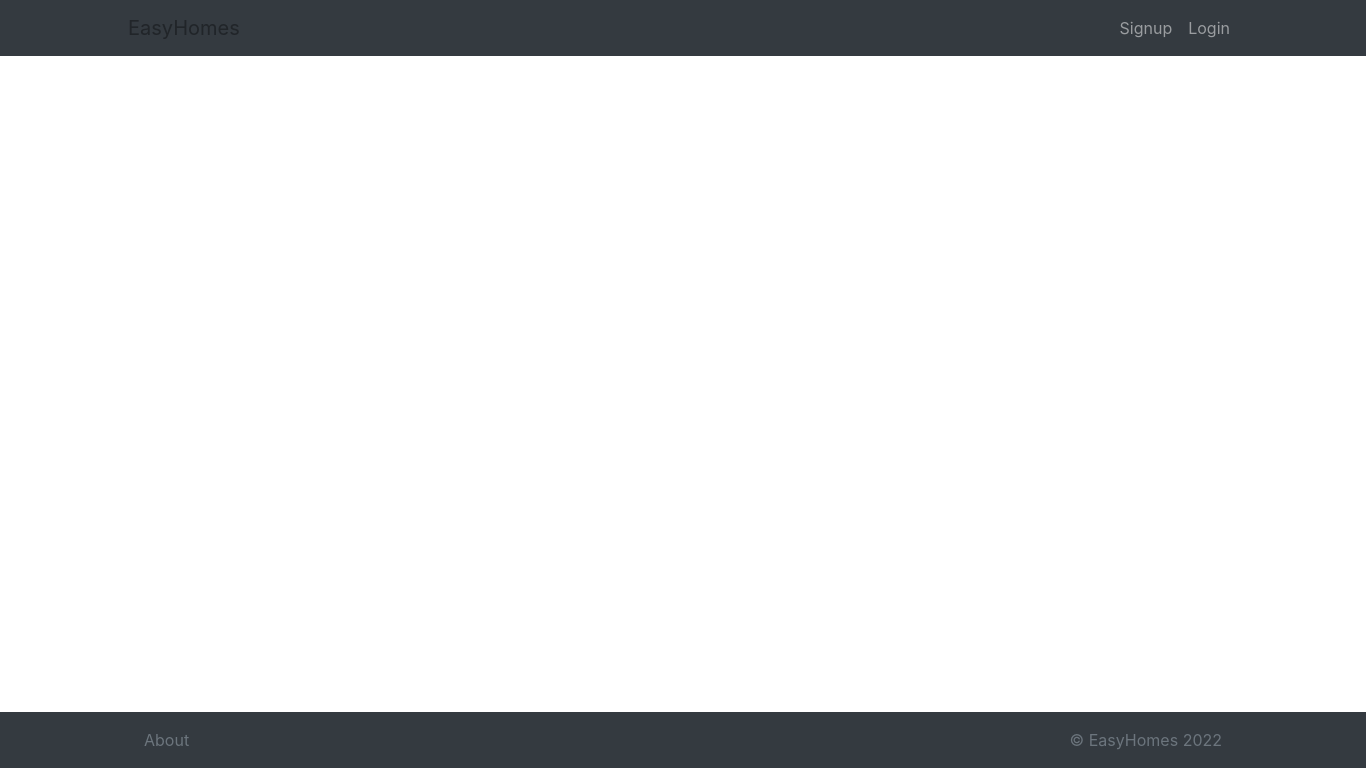
Navigation › should navigate to the login page
Find a link with an href attribute containing "login" and click it
What coordinates should you click on to do the following:
click the link "Login"
I would click on:
 (1209, 28)
Its box is x1=1188 y1=18 x2=1230 y2=38.
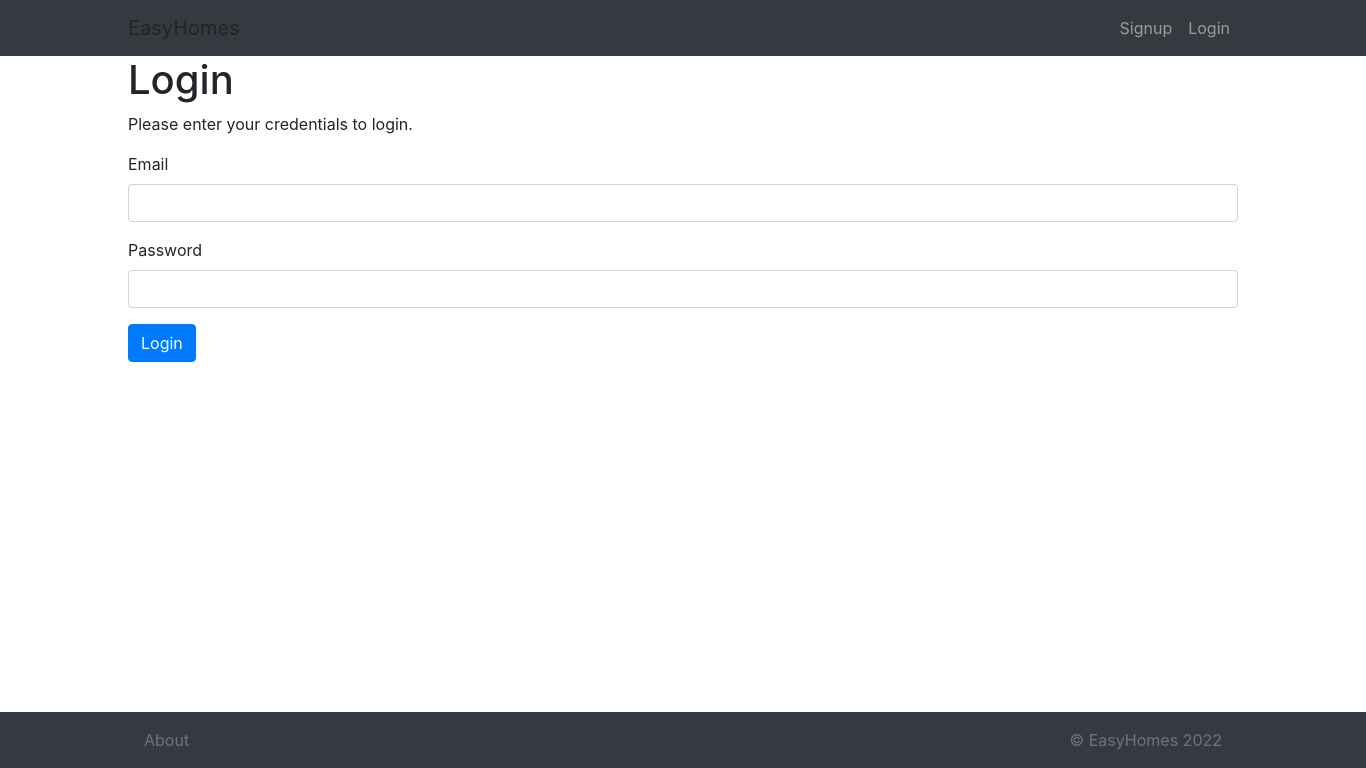
Now the heading "Login" is shown, box x1=128 y1=55 x2=234 y2=104
